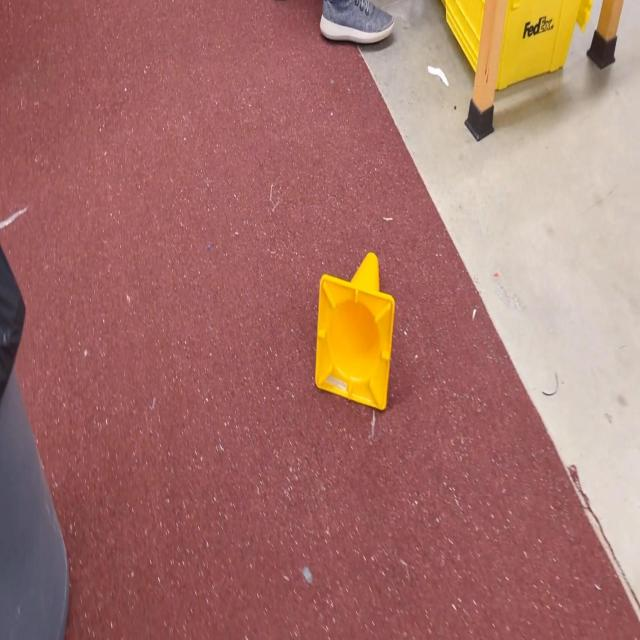frc_cone: (315, 253, 394, 412)
